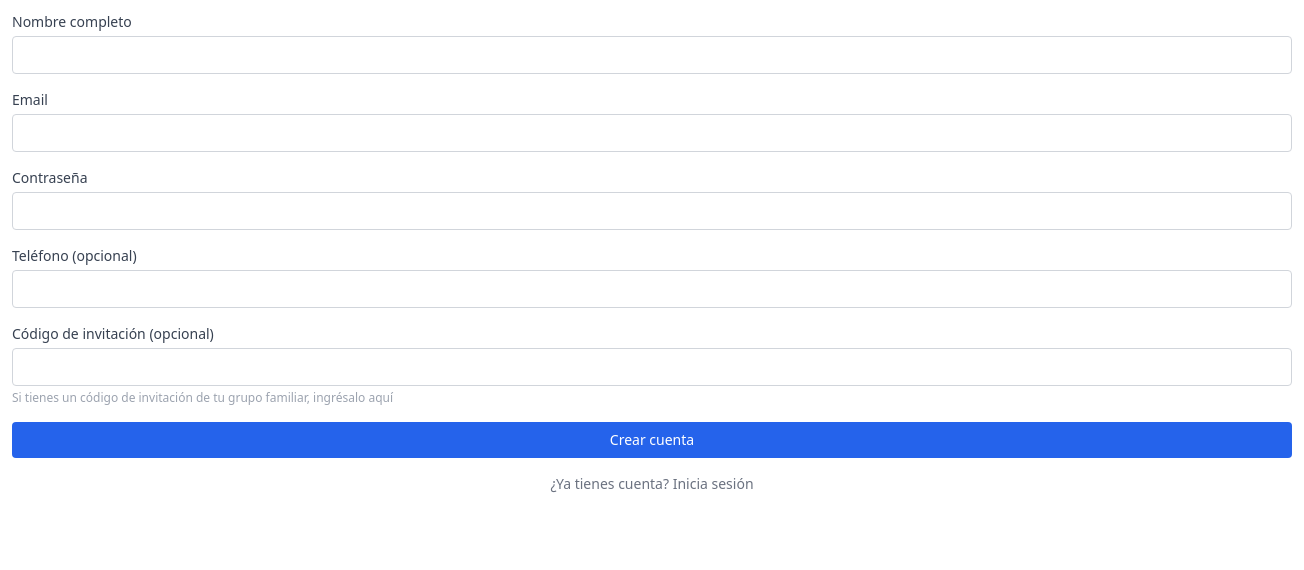
Test case: RegisterPage › shows error on ALREADY_MEMBER
Type "Test User" into the field labelled "Nombre completo".
click(652, 55); type("Test User")  # box left=12, top=36, right=1292, bottom=74
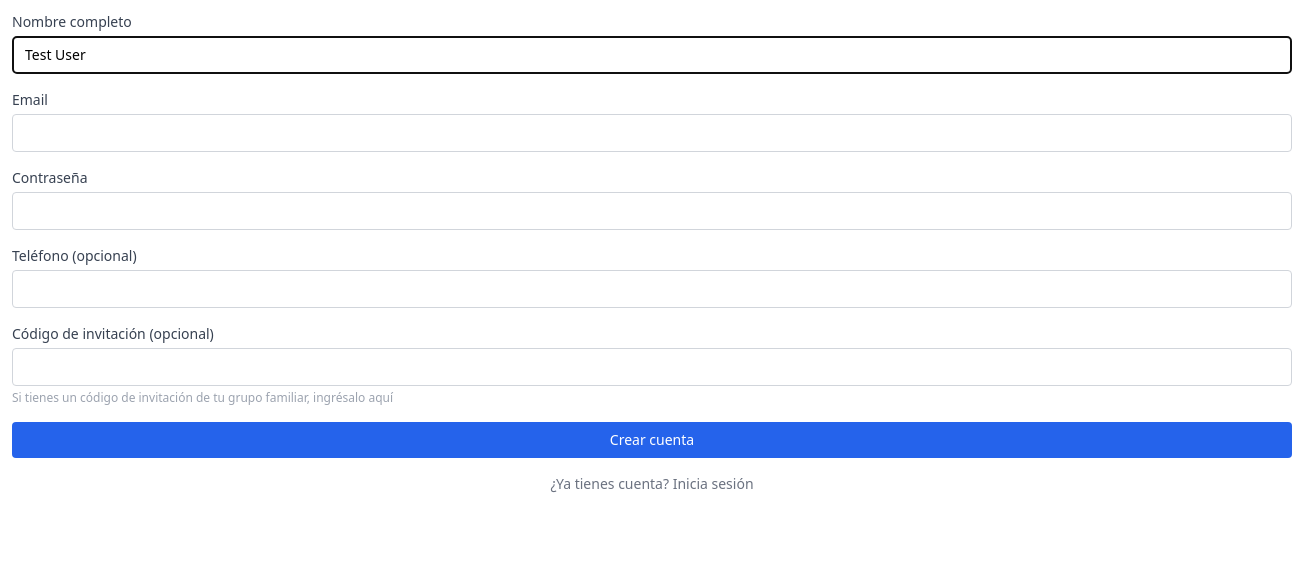
Type "new@example.com" into the field labelled "Email".
click(652, 133); type("new@example.com")  # box left=12, top=114, right=1292, bottom=152
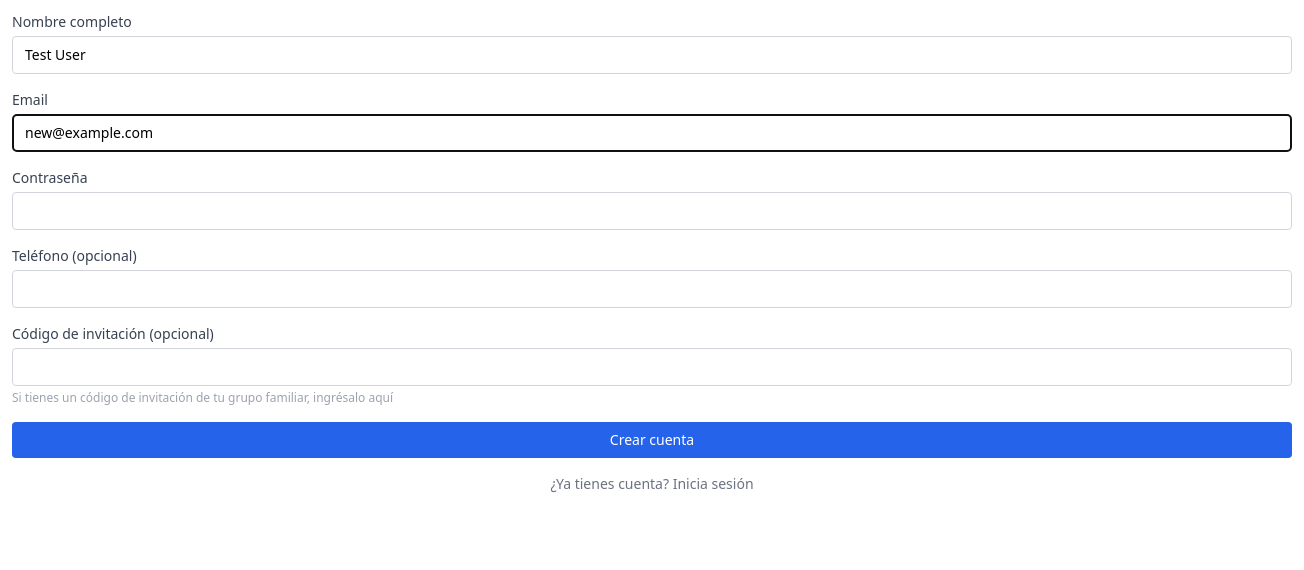
Type "password123" into the password field labelled "Contraseña".
click(652, 211); type("password123")  # box left=12, top=192, right=1292, bottom=230
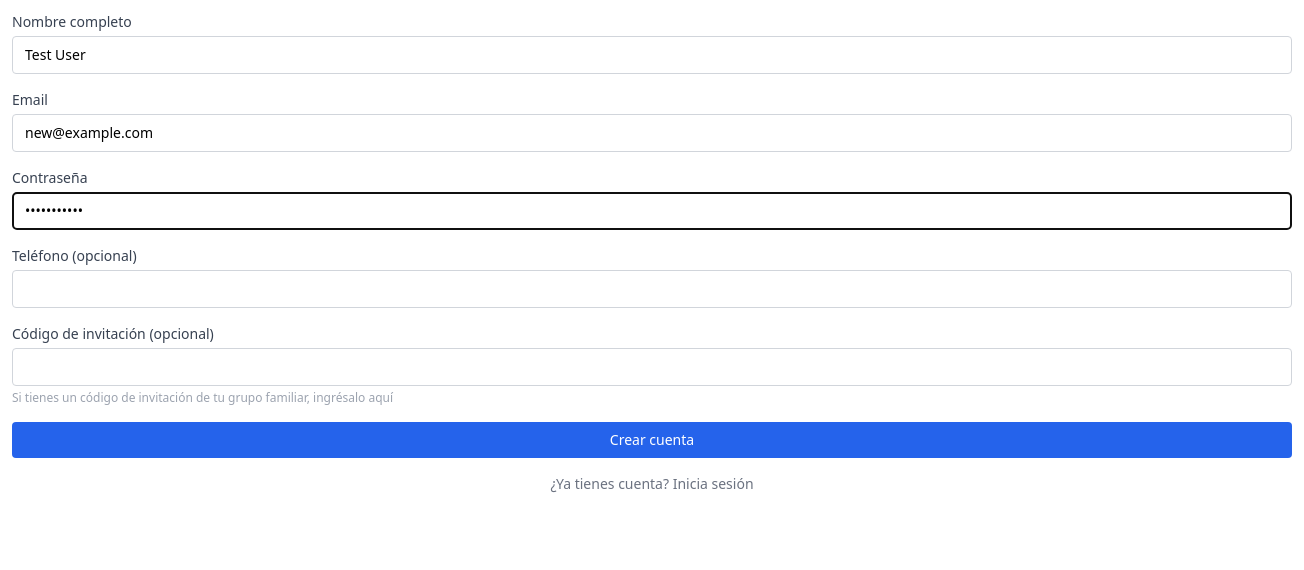
Type "EXISTING" into the field labelled "Código de invitación (opcional)".
click(652, 367); type("EXISTING")  # box left=12, top=348, right=1292, bottom=386
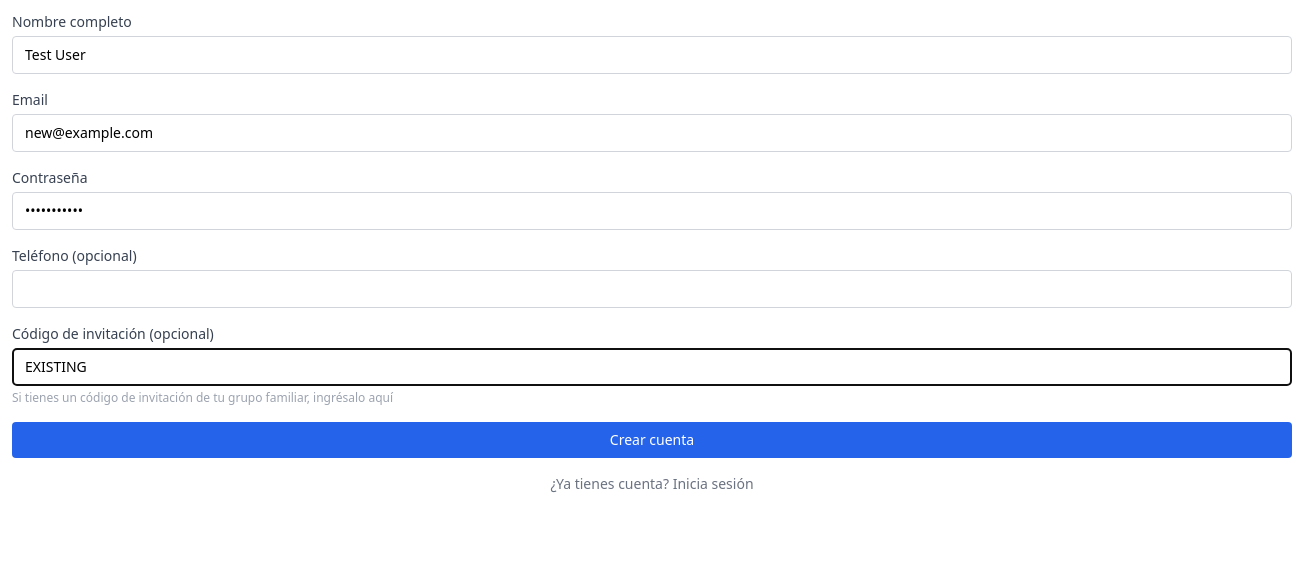
Click the button "Crear cuenta".
click(652, 440)  # box left=12, top=422, right=1292, bottom=458
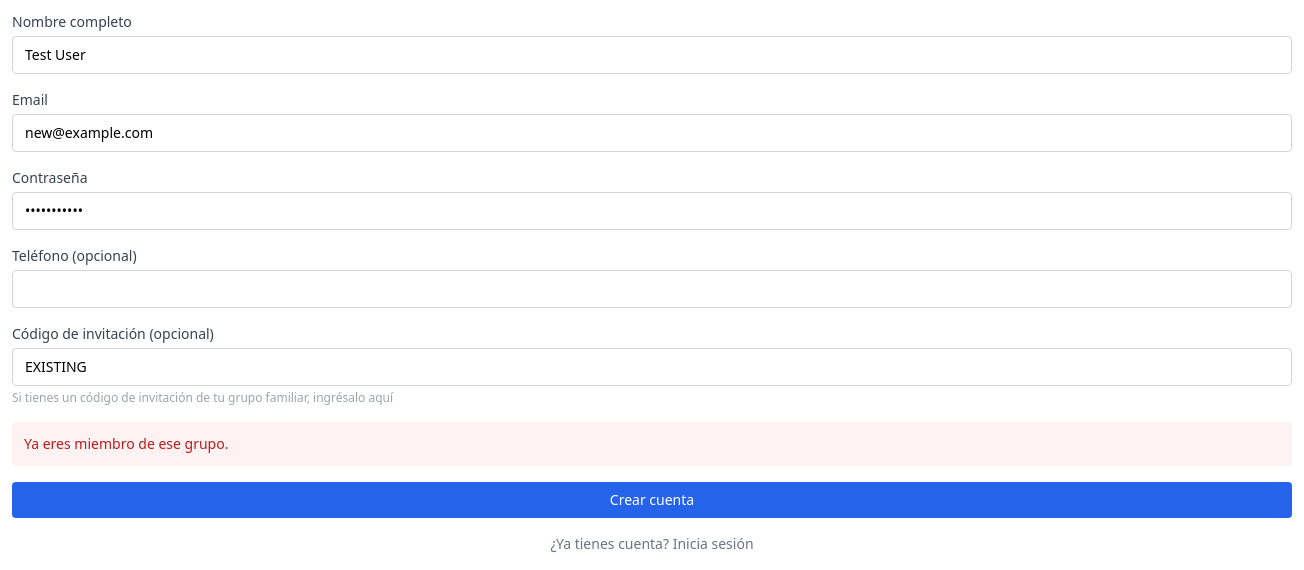
Check: the text "Ya eres miembro de ese grupo." is shown, box left=12, top=422, right=1292, bottom=466
